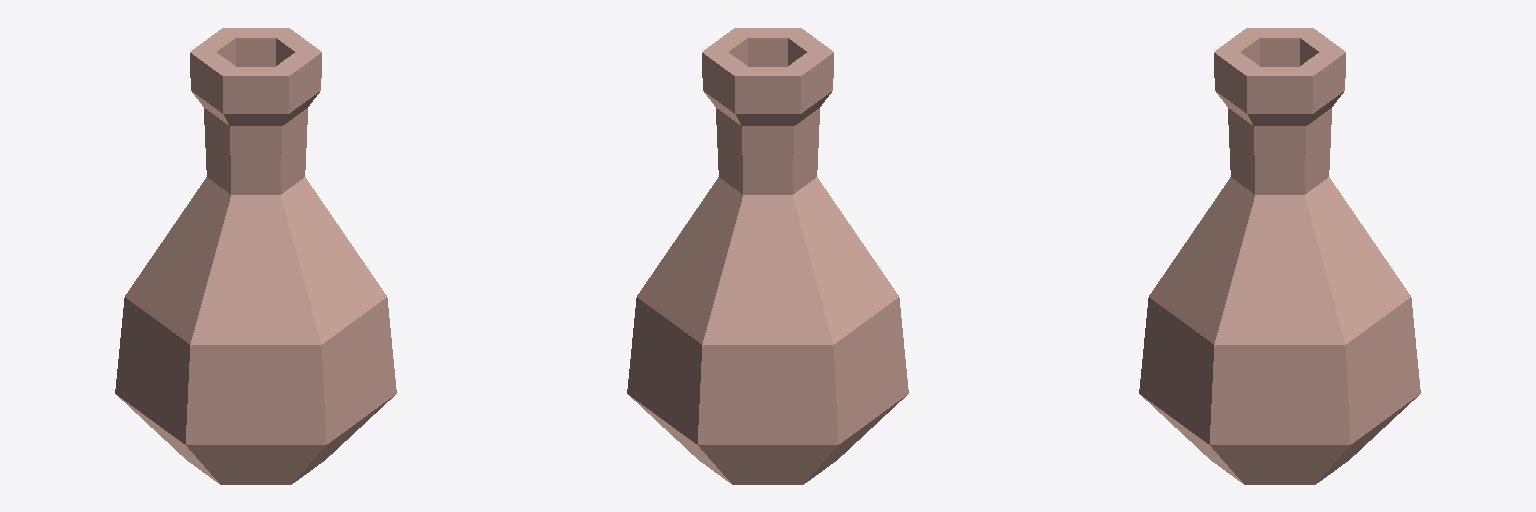
Rendered from Bottle.obj.
3 views of the same model, side by side, from view 1: azimuth 30°, elevation 25°; view 2: azimuth 150°, elevation 25°; view 3: azimuth 270°, elevation 25° (orthographic).
Parts seen in each view (by area): view 1: Circle; view 2: Circle; view 3: Circle.
Boxes of the visible parts, x1,y1,x2,y2 form: Circle: [115, 28, 396, 484]; Circle: [627, 28, 908, 484]; Circle: [1139, 28, 1420, 484].
Bounding box in the file's own units: 1.37 × 2.52 × 1.58.